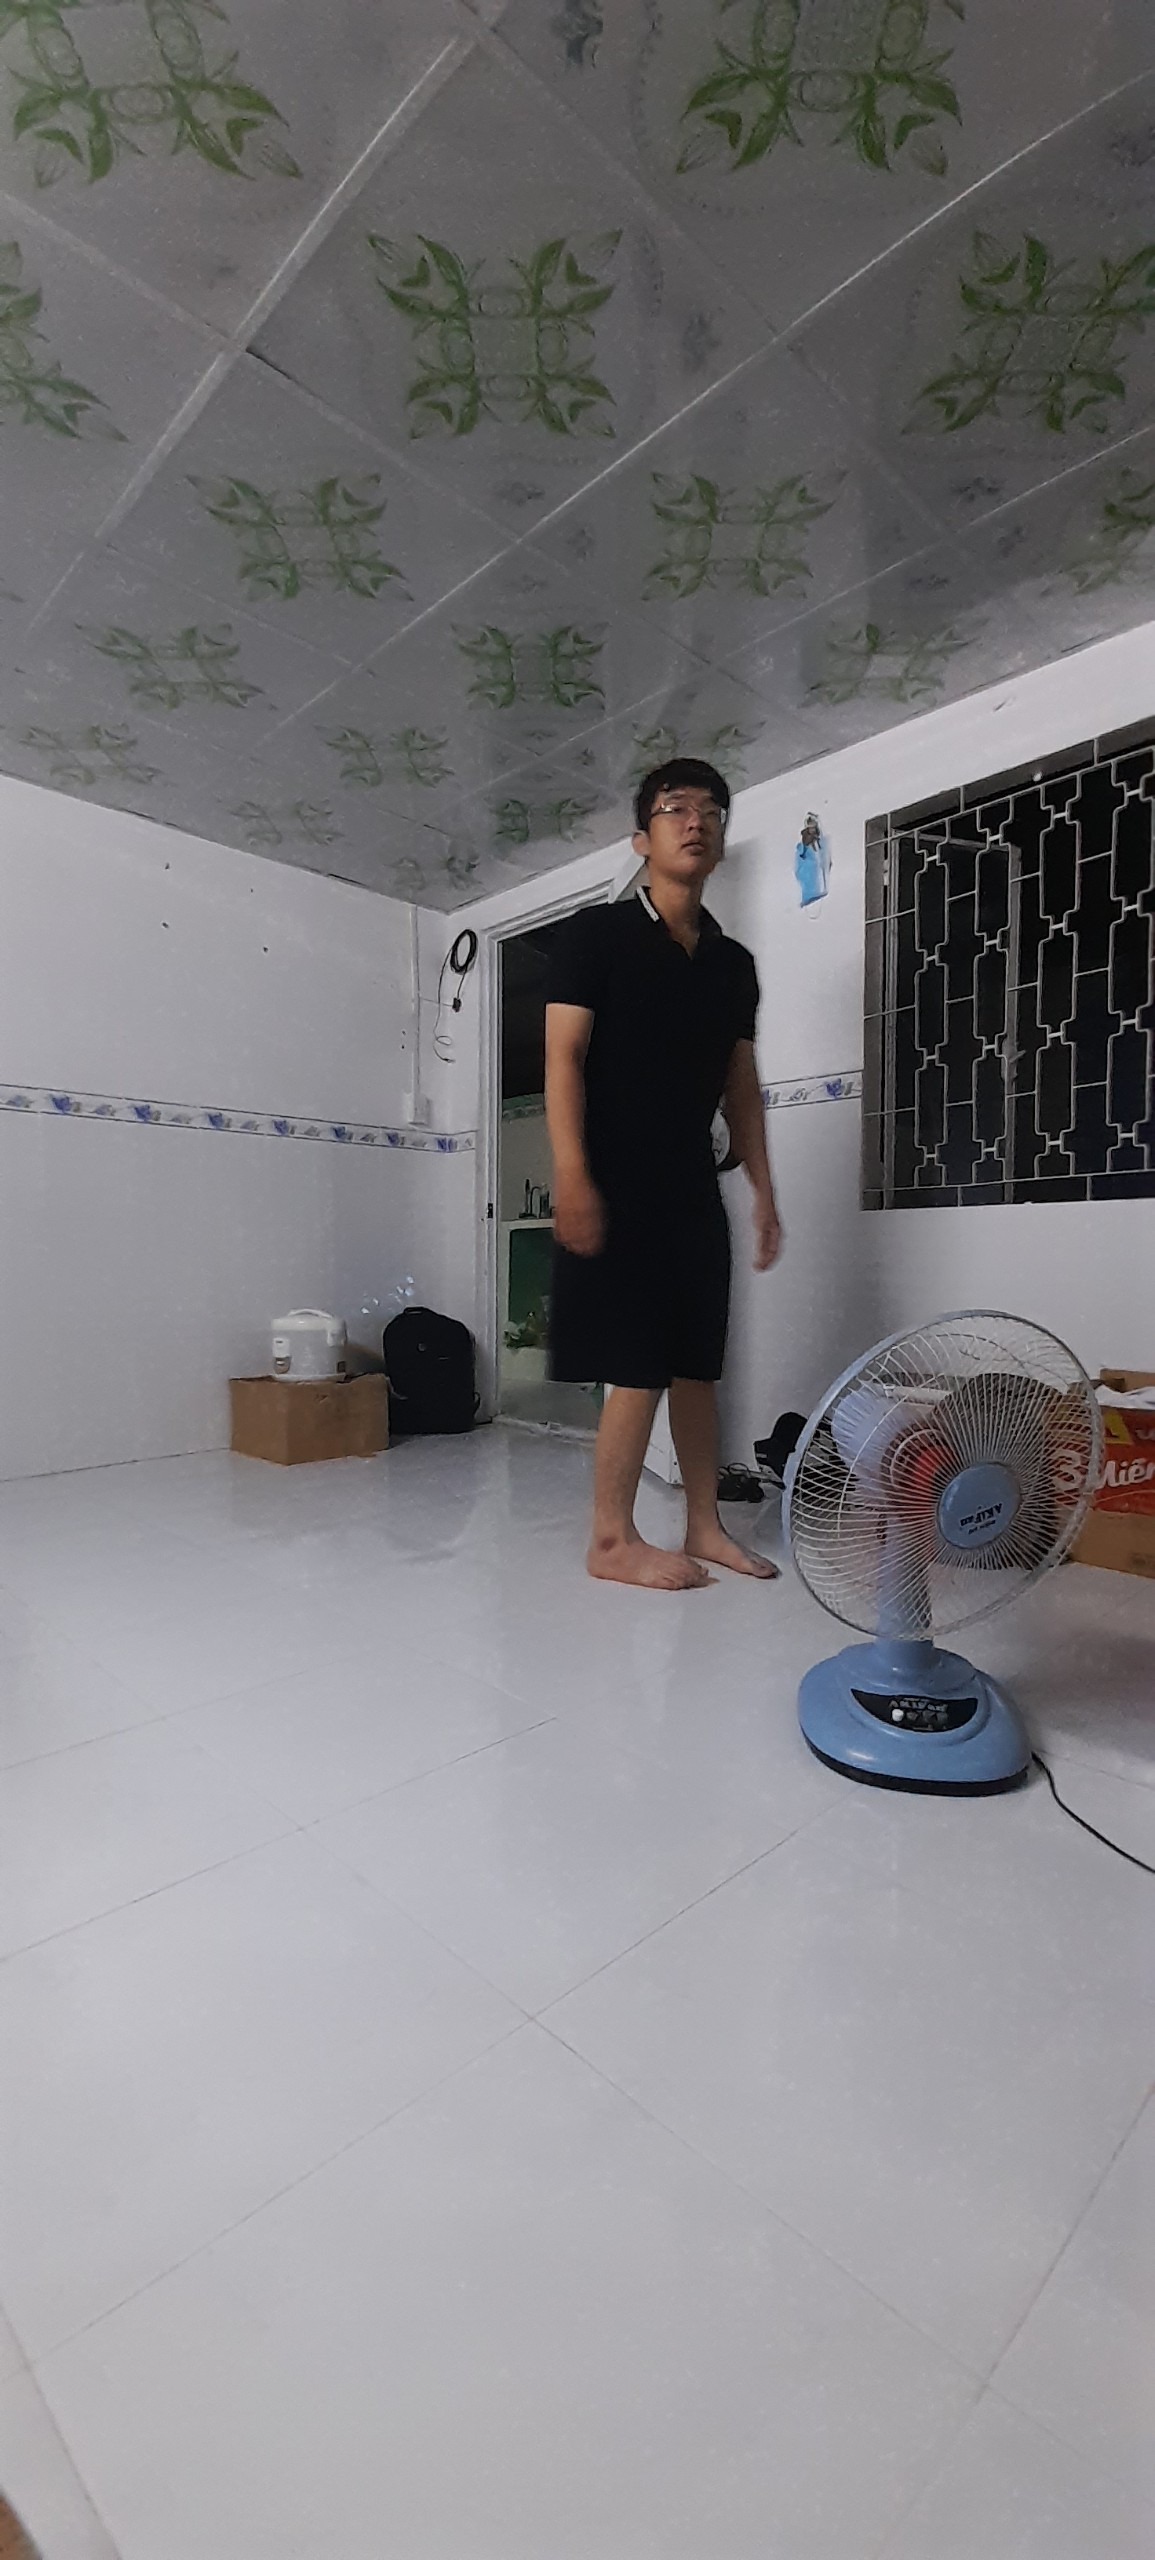person: (549, 763, 779, 1587)
